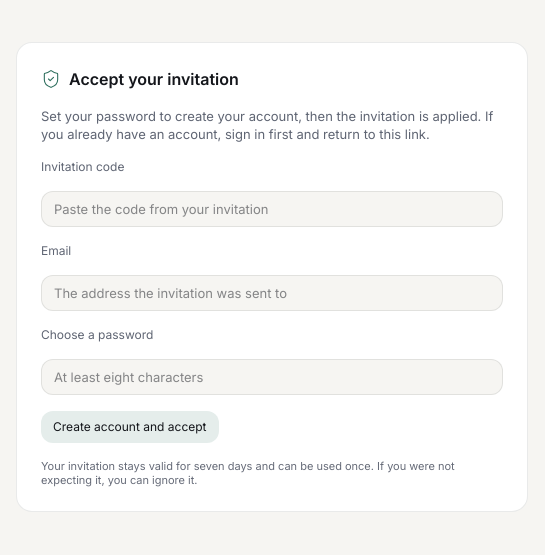
Test case: OA-20 member invitation acceptance (C2.4) › reports a missing code instead of sending an empty token
Type "nobody@example.test" into the field with test id "oa-accept-email".
click(272, 293); type("nobody@example.test")  # box x1=41 y1=275 x2=503 y2=311
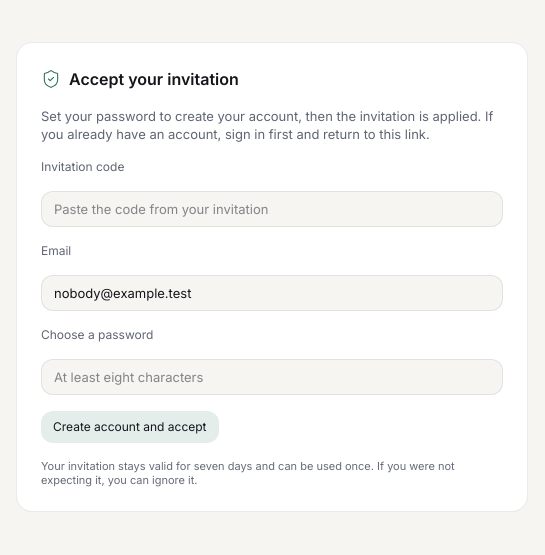
Type "a-long-enough-password" into the password field with test id "oa-accept-password".
click(272, 377); type("a-long-enough-password")  # box x1=41 y1=359 x2=503 y2=395
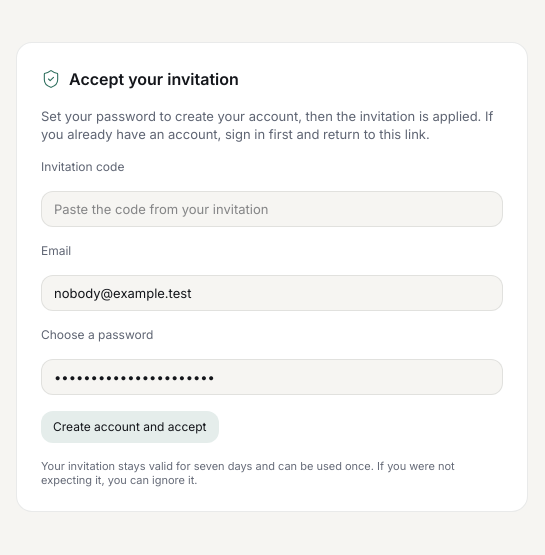
Click the button with test id "oa-accept-submit".
click(130, 427)  # box x1=41 y1=411 x2=218 y2=443
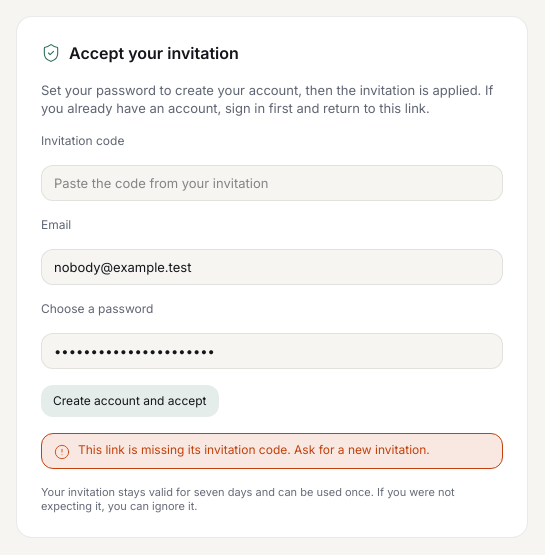
Result: the message with test id "oa-accept-error" shows "missing" at x1=78 y1=442 x2=430 y2=457
